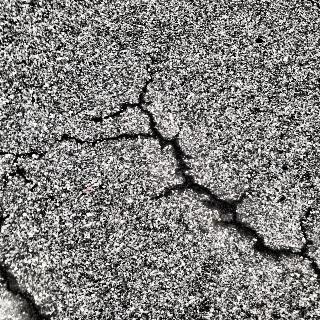crack: (57, 79, 320, 278), (0, 251, 49, 320), (0, 142, 44, 200)
